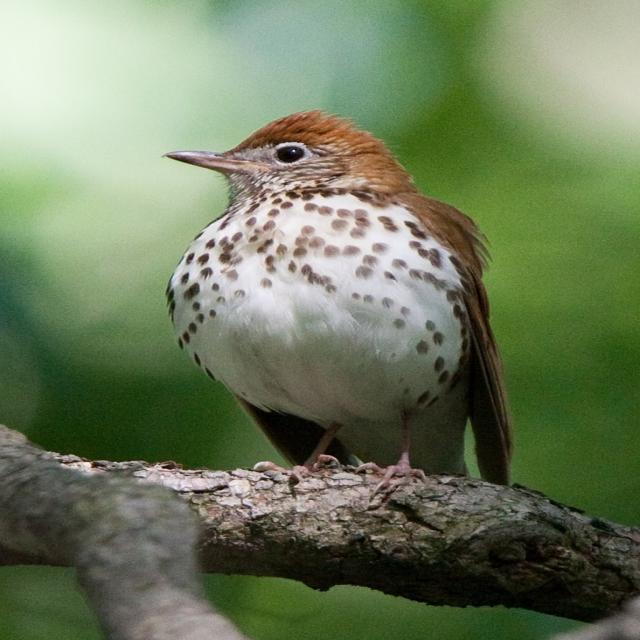bird: (148, 107, 526, 499)
